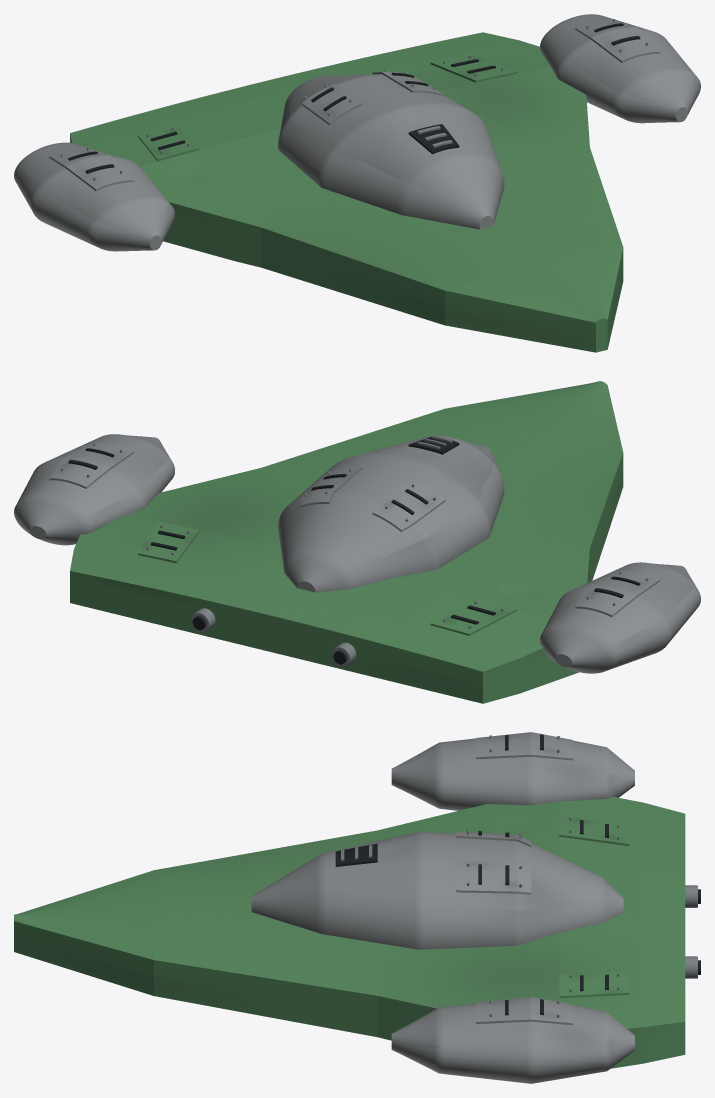
The picture shows the model from 3 angles, top to bottom: view 1: azimuth 30°, elevation 25°; view 2: azimuth 150°, elevation 25°; view 3: azimuth 270°, elevation 25°; orthographic projection. The views are drawn at different scales.
Visible parts, largest first — view 1: All-Purpose green delta hull, All-Purpose central grey cowl, All-Purpose port grey cowl, All-Purpose starboard grey cowl, All-Purpose service cover 2, All-Purpose service cover 3, All-Purpose service cover 0, All-Purpose service cover 4, All-Purpose service cover 5, All-Purpose forward service inset, All-Purpose service cover 1; view 2: All-Purpose green delta hull, All-Purpose central grey cowl, All-Purpose port grey cowl, All-Purpose starboard grey cowl, All-Purpose service cover 3, All-Purpose service cover 2, All-Purpose service cover 0, All-Purpose service cover 4, All-Purpose service cover 5, All-Purpose service cover 1; view 3: All-Purpose green delta hull, All-Purpose central grey cowl, All-Purpose starboard grey cowl, All-Purpose port grey cowl, All-Purpose service cover 1, All-Purpose service cover 2, All-Purpose service cover 3, All-Purpose service cover 5, All-Purpose service cover 4, All-Purpose forward service inset.
Part boxes in pixels (x1=…): All-Purpose green delta hull: x1=70, y1=32, x2=623, y2=352; All-Purpose central grey cowl: x1=278, y1=74, x2=504, y2=229; All-Purpose port grey cowl: x1=14, y1=142, x2=174, y2=251; All-Purpose starboard grey cowl: x1=540, y1=14, x2=700, y2=123; All-Purpose service cover 2: x1=49, y1=147, x2=134, y2=191; All-Purpose service cover 3: x1=575, y1=19, x2=660, y2=62; All-Purpose service cover 0: x1=300, y1=83, x2=362, y2=125; All-Purpose service cover 4: x1=138, y1=124, x2=199, y2=161; All-Purpose service cover 5: x1=430, y1=54, x2=517, y2=82; All-Purpose forward service inset: x1=408, y1=124, x2=459, y2=154; All-Purpose service cover 1: x1=372, y1=72, x2=445, y2=96; All-Purpose green delta hull: x1=70, y1=381, x2=623, y2=703; All-Purpose central grey cowl: x1=278, y1=435, x2=504, y2=592; All-Purpose port grey cowl: x1=540, y1=562, x2=700, y2=673; All-Purpose starboard grey cowl: x1=14, y1=434, x2=174, y2=545; All-Purpose service cover 3: x1=49, y1=441, x2=134, y2=488; All-Purpose service cover 2: x1=575, y1=570, x2=660, y2=617; All-Purpose service cover 0: x1=372, y1=479, x2=445, y2=531; All-Purpose service cover 4: x1=430, y1=597, x2=517, y2=635; All-Purpose service cover 5: x1=138, y1=521, x2=199, y2=563; All-Purpose service cover 1: x1=300, y1=466, x2=362, y2=507; All-Purpose green delta hull: x1=14, y1=796, x2=685, y2=1068; All-Purpose central grey cowl: x1=251, y1=831, x2=623, y2=949; All-Purpose starboard grey cowl: x1=391, y1=1003, x2=634, y2=1083; All-Purpose port grey cowl: x1=391, y1=738, x2=634, y2=810; All-Purpose service cover 1: x1=456, y1=860, x2=531, y2=894; All-Purpose service cover 2: x1=475, y1=732, x2=573, y2=760; All-Purpose service cover 3: x1=475, y1=997, x2=573, y2=1025; All-Purpose service cover 5: x1=559, y1=972, x2=629, y2=998; All-Purpose service cover 4: x1=559, y1=815, x2=629, y2=845; All-Purpose forward service inset: x1=335, y1=843, x2=377, y2=866.
Size of the model in its own units: 2.72 by 0.4393 by 2.46.
4 materials, 2 textured.
